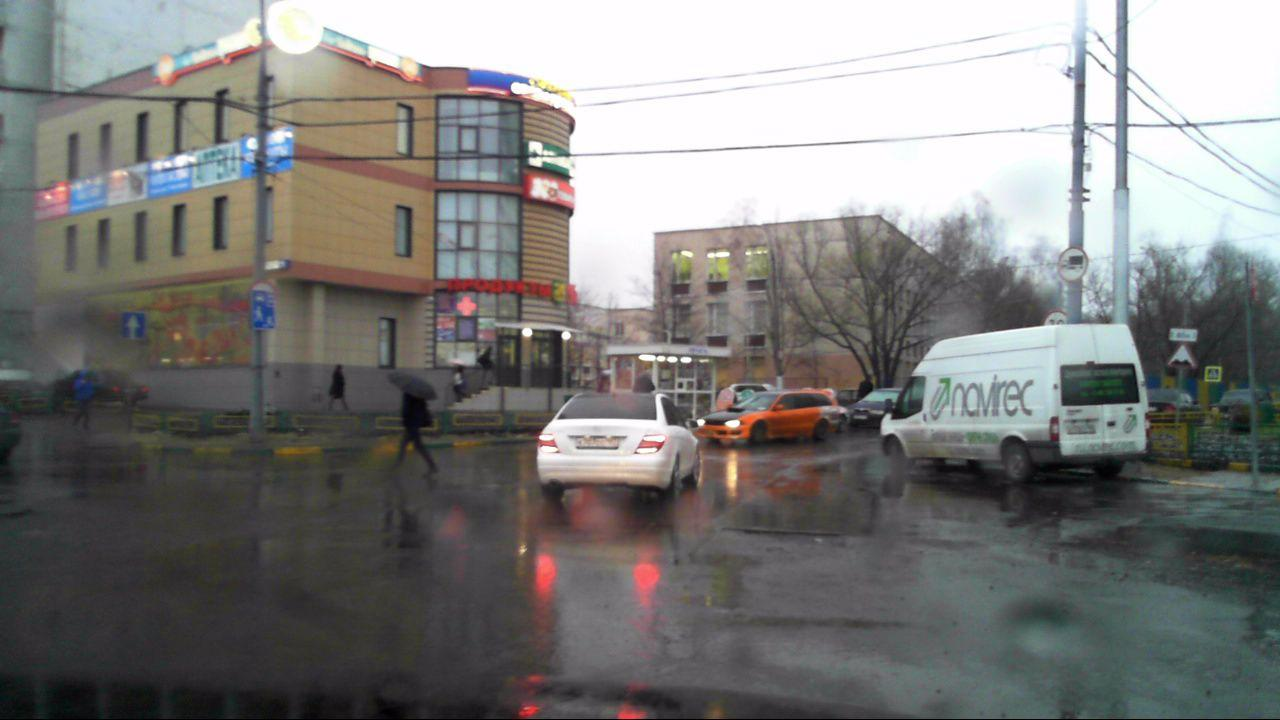1_16: (1165, 344, 1198, 371)
3_24: (1041, 310, 1069, 327)
3_4: (1055, 247, 1089, 282)
5_19_1: (1207, 366, 1220, 382)
5_21: (251, 288, 277, 330)
5_5: (121, 312, 145, 340)
8_2_1: (1167, 326, 1199, 343)
